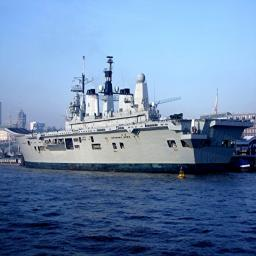Portanaves: (4, 50, 254, 174)
